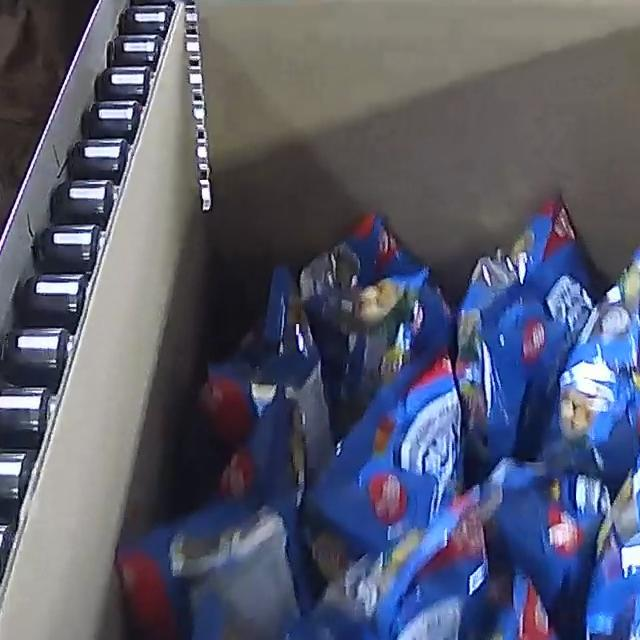paprika: (114, 195, 640, 640)
